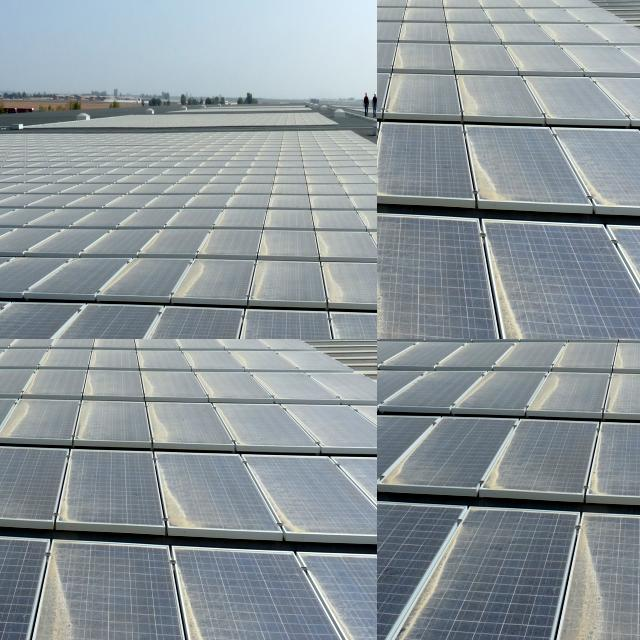bird: (93, 212, 122, 252), (33, 177, 49, 227), (28, 142, 52, 167), (116, 141, 134, 173), (134, 216, 150, 250), (82, 143, 104, 165), (75, 176, 92, 204), (142, 136, 160, 162), (60, 227, 74, 259), (0, 144, 15, 172), (60, 136, 75, 162), (4, 139, 20, 163), (0, 189, 9, 224), (0, 236, 12, 259), (0, 206, 11, 229), (0, 205, 11, 227), (0, 149, 9, 172)
crack: (0, 339, 93, 429), (0, 339, 62, 403), (0, 339, 53, 398), (0, 339, 51, 374), (0, 339, 46, 364), (0, 339, 38, 363)
dust: (495, 339, 591, 493), (408, 504, 506, 640), (385, 339, 476, 485), (552, 512, 612, 640), (600, 339, 640, 483)
hotspot: (377, 0, 382, 6)
